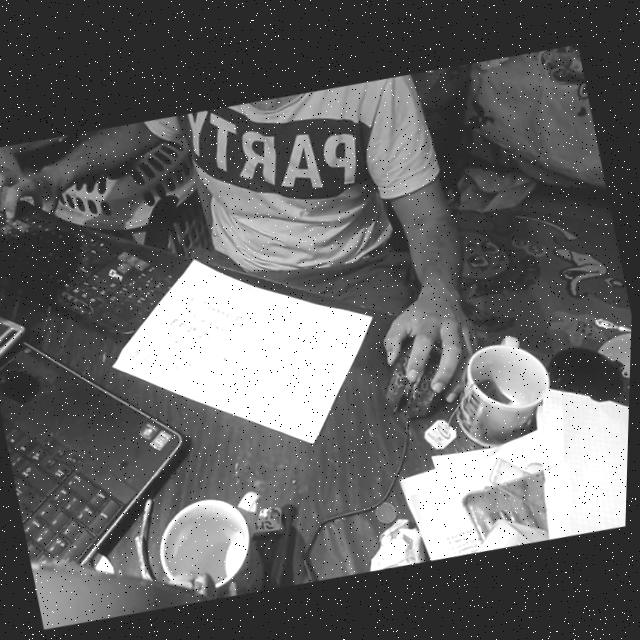document: (114, 260, 372, 441)
